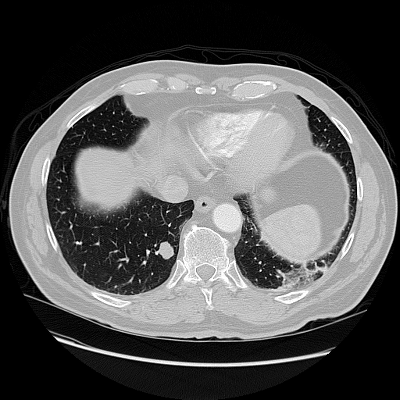nodule: (158, 242, 174, 258)
